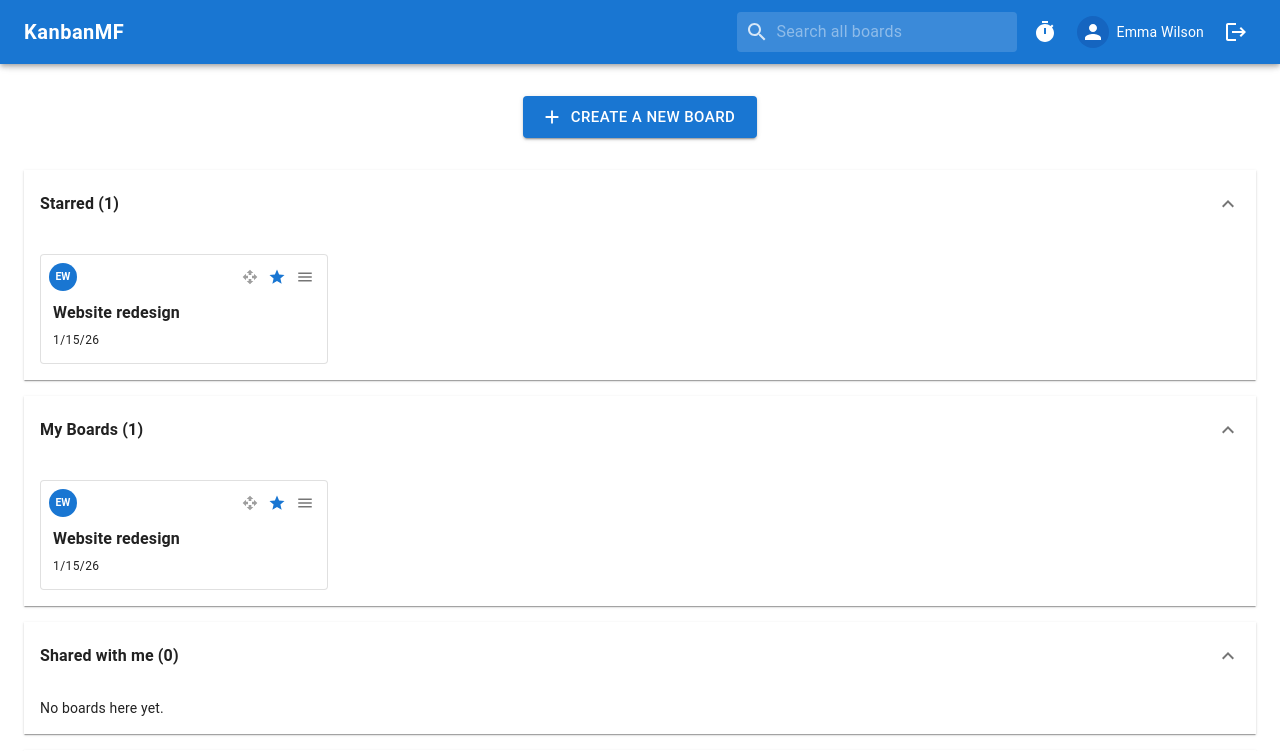
Test case: Boards › a board's menu › renames the board in every section that shows it
Click the 1st button named "Menu for Website redesign" at coordinates (305, 277), box top-left (291, 263), bottom-right (319, 291)
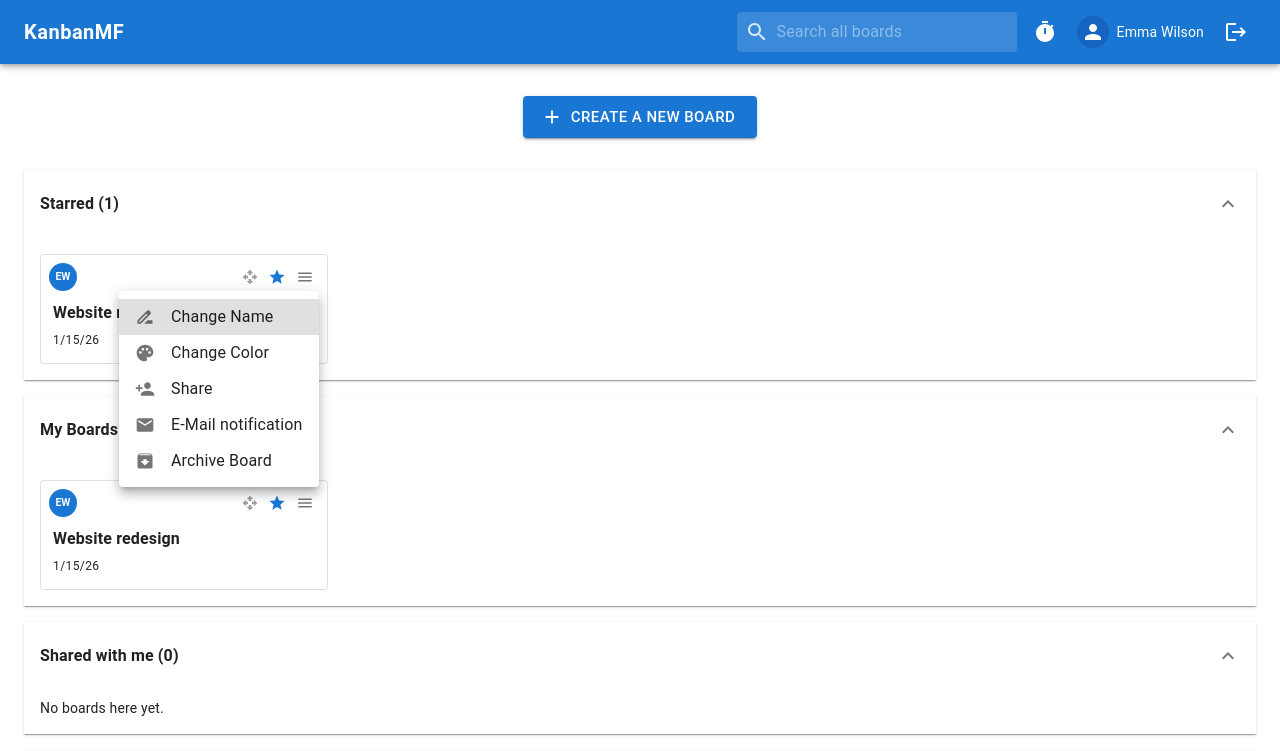
Click the menu item "Change Name" at coordinates (219, 317), box top-left (119, 299), bottom-right (318, 335)
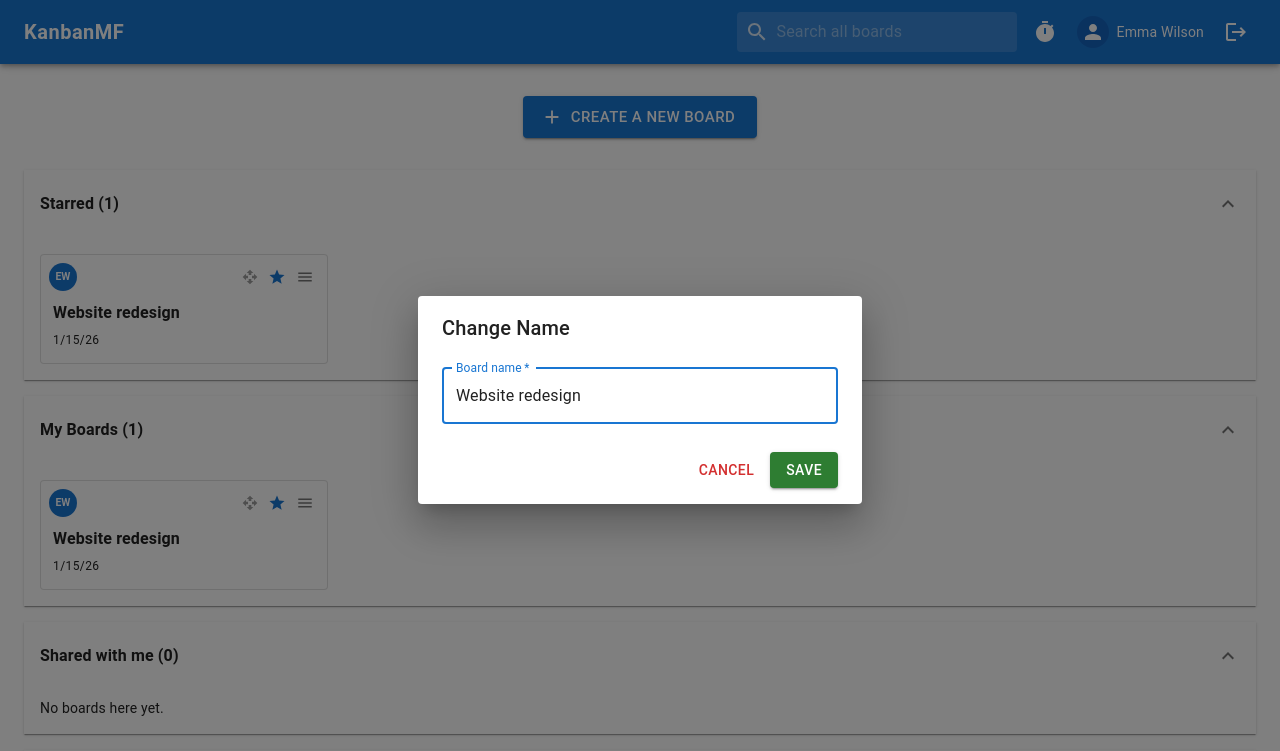
Replace the text in the field with "Website relaunch" at coordinates (640, 396), box top-left (442, 368), bottom-right (838, 424)
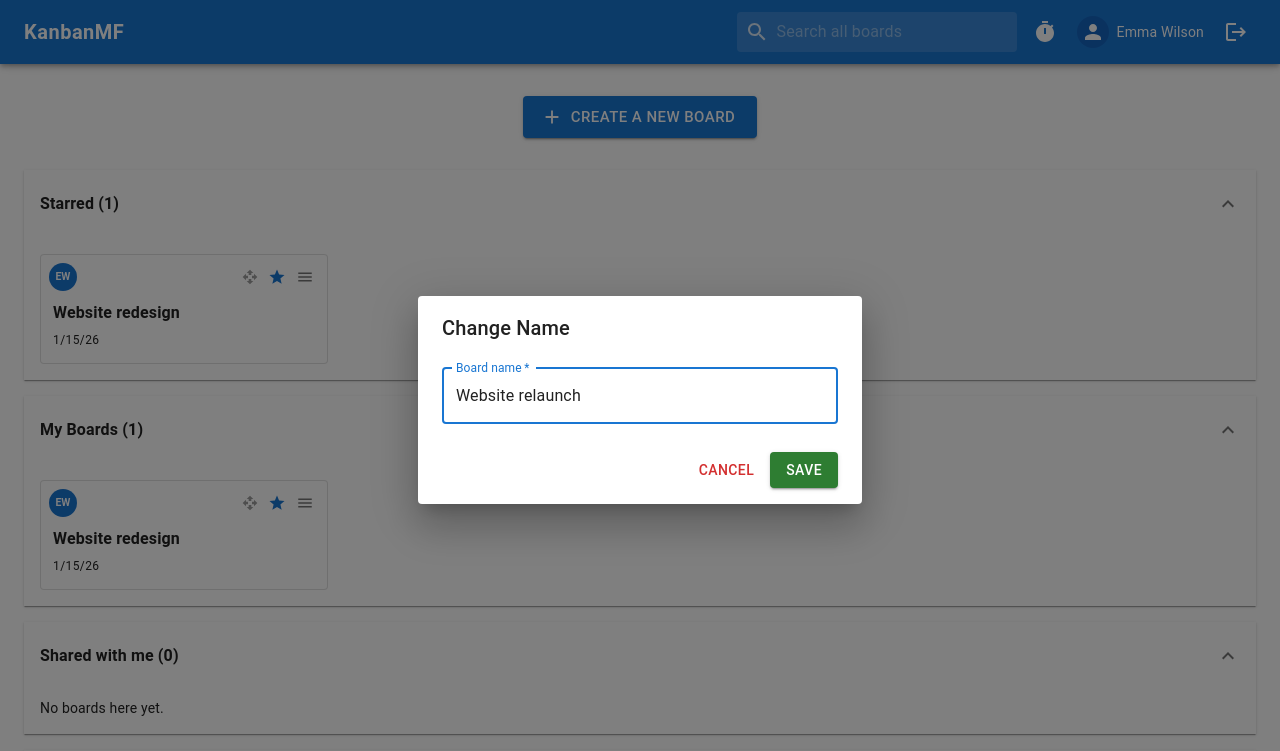
Click the button "Save" at coordinates (804, 470), box top-left (770, 452), bottom-right (838, 488)
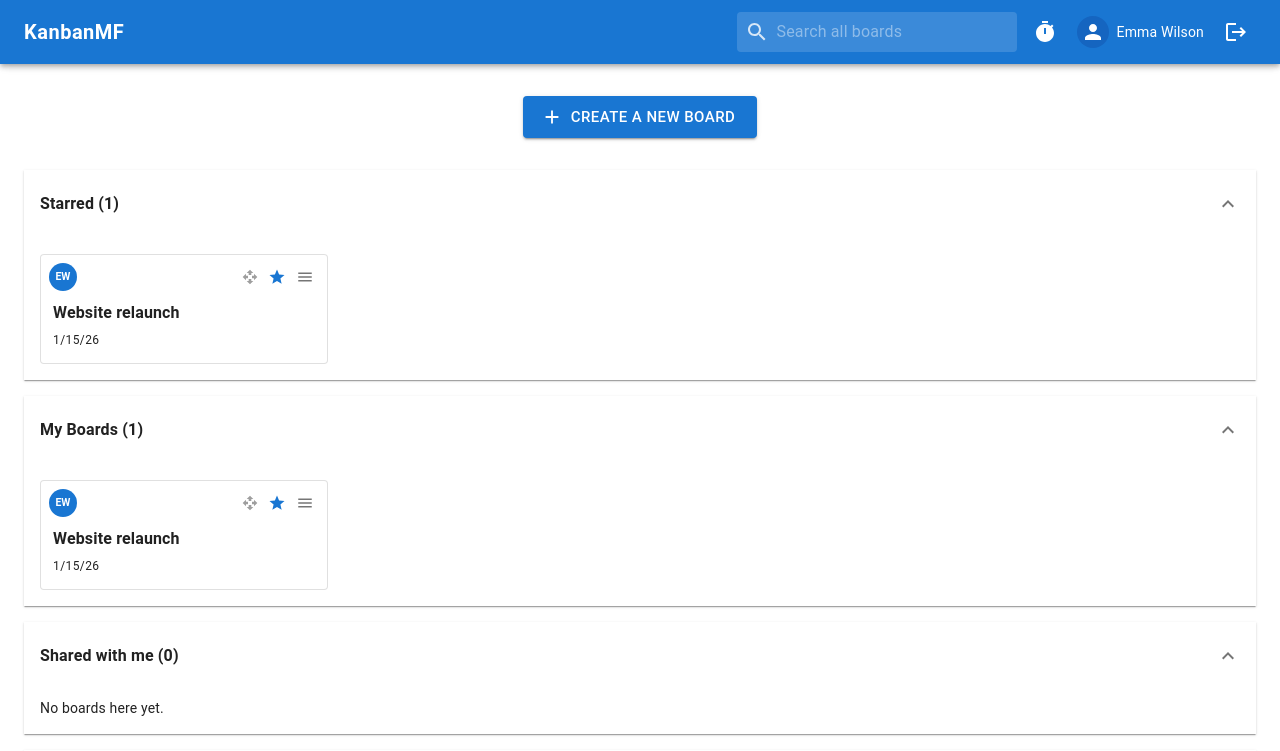
Expected: the number of headings "Website relaunch" is 2, top-left (53, 303), bottom-right (180, 322); top-left (53, 529), bottom-right (180, 548)
Expected: the link "Website redesign" is gone
